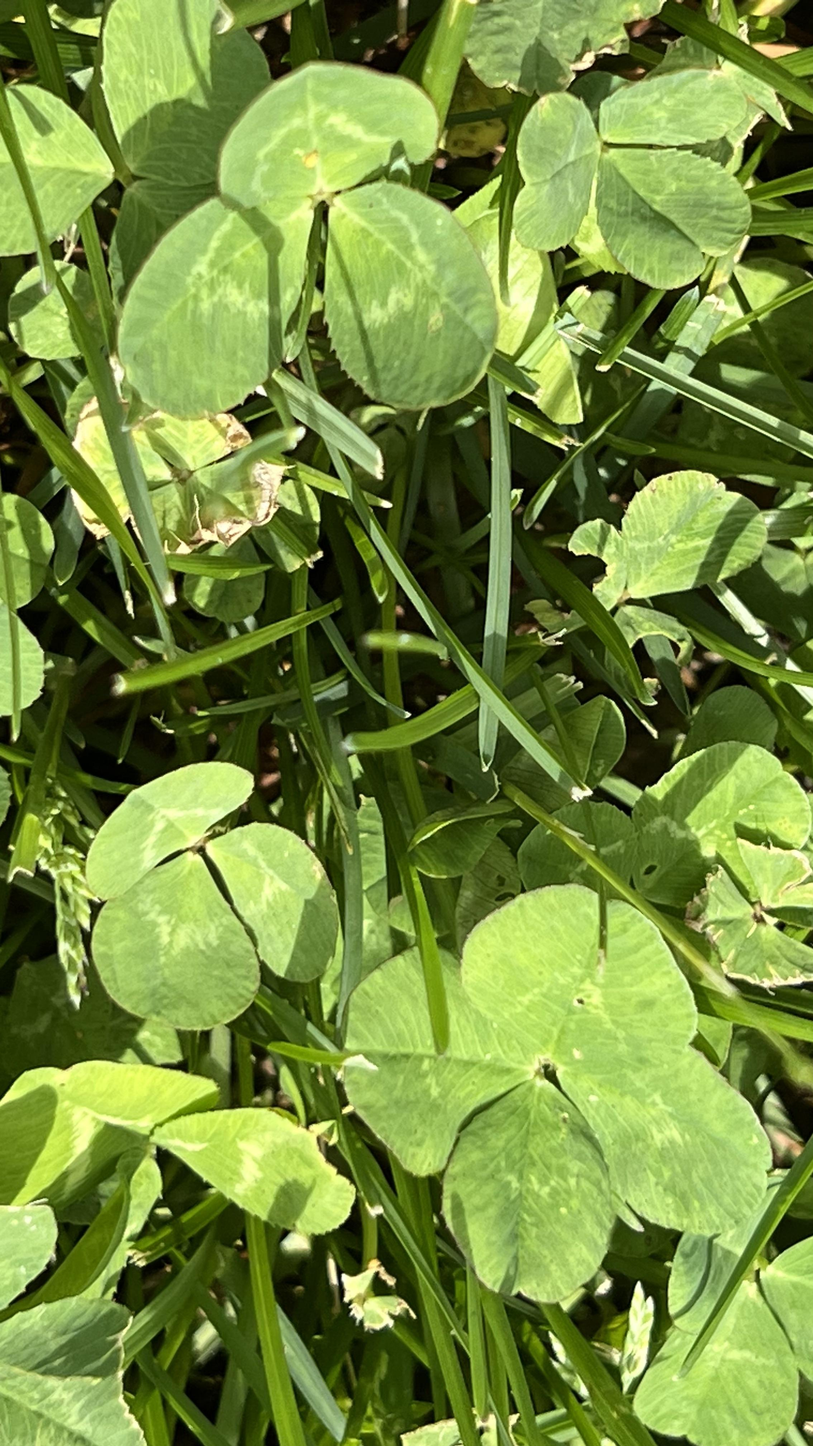4-Leaf-Clovers: (499, 79, 730, 825)
